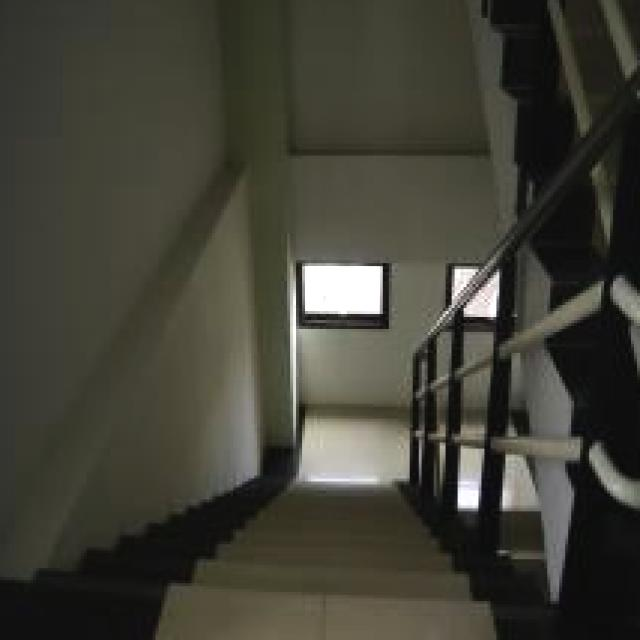downstair: (240, 491, 432, 640)
